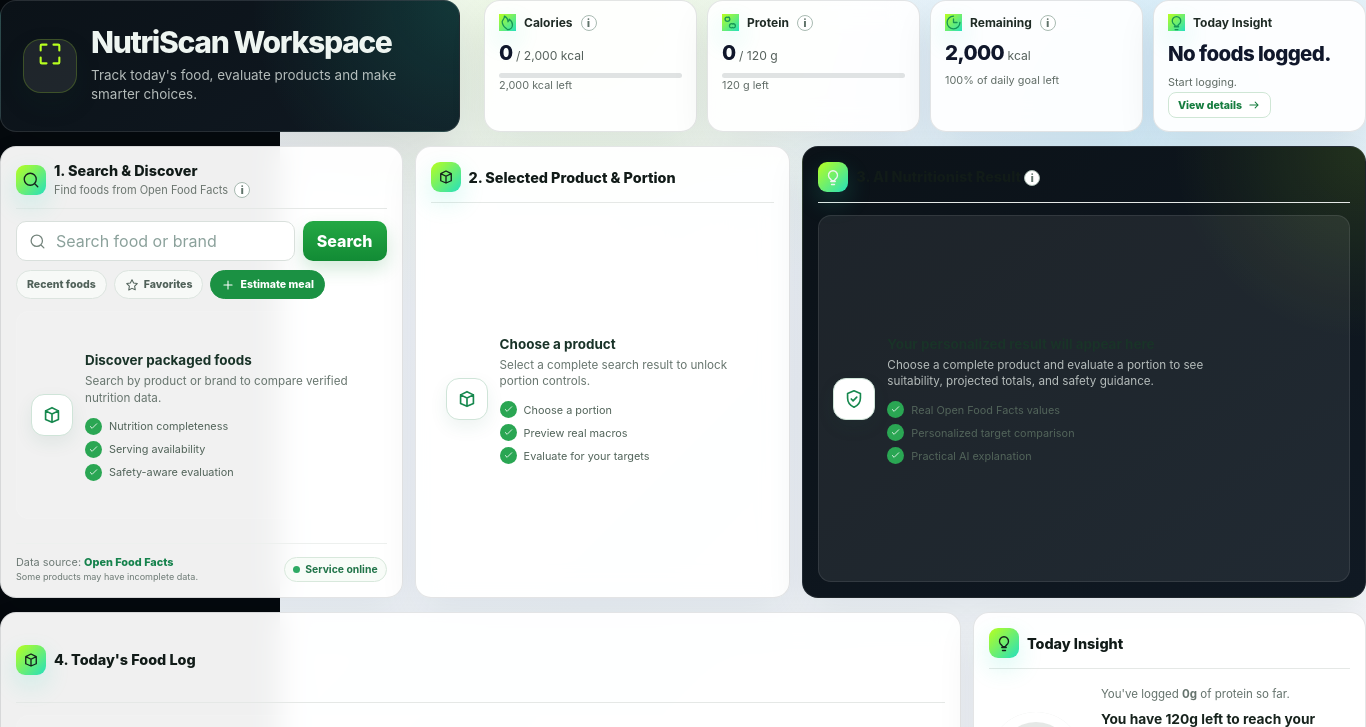
Test case: renders the exact quick actions and validates an empty meal description locally
This screenshot has width=1366, height=727.
Expected: the button "Recent foods" is shown, [16,270,107,299]
Expected: the button "Favorites" is shown, [114,270,203,299]
Click the button "Estimate meal": {"x": 268, "y": 284} [210,270,325,299]
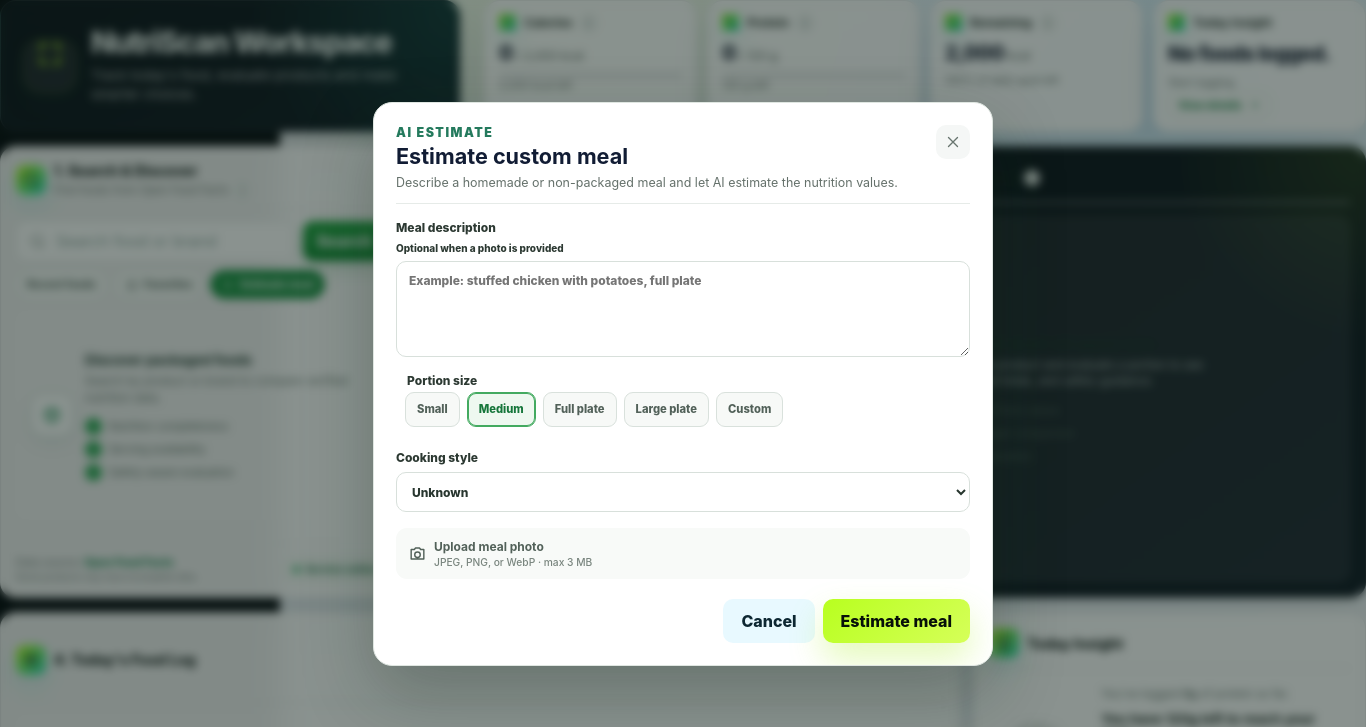
Now the dialog "Estimate custom meal" is shown, box [373,102,993,666]
Click the button "Estimate meal": {"x": 896, "y": 621} [823,599,970,643]
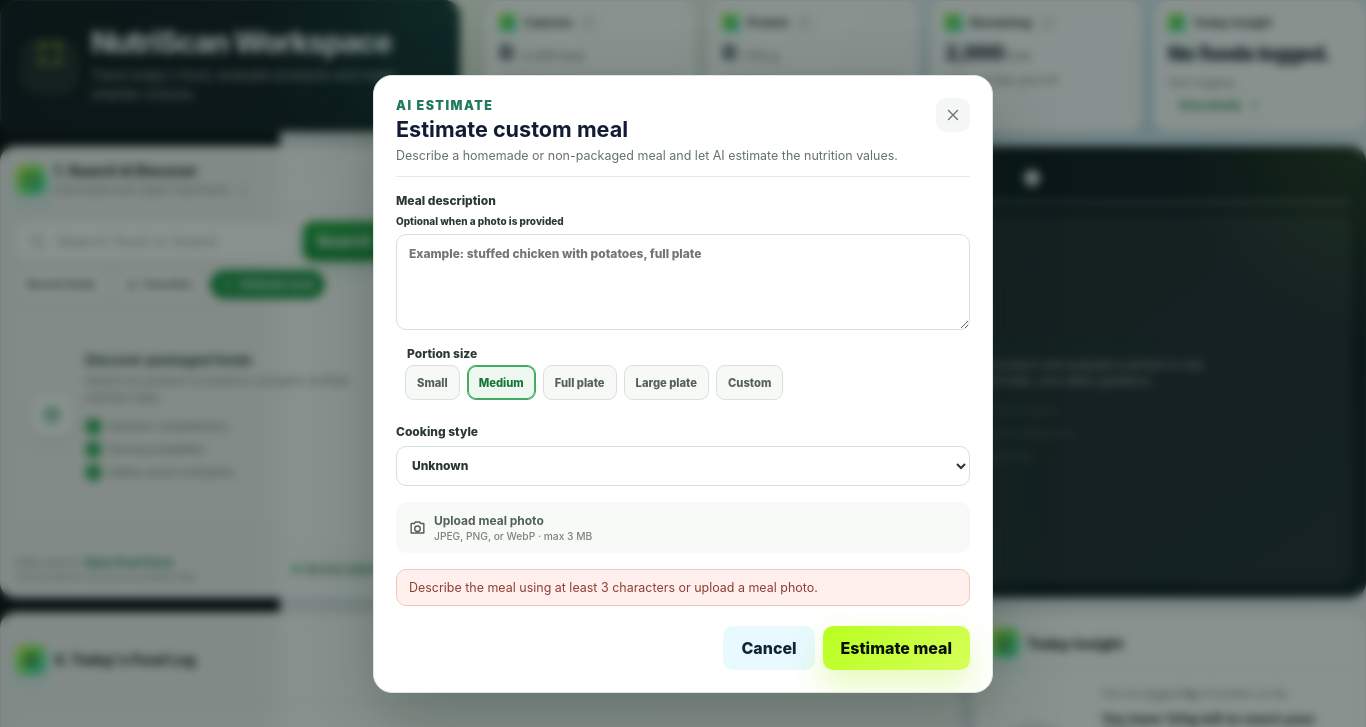
Now the text "Describe the meal using at least 3 characters or upload a meal photo." is shown, box [396,569,970,606]
